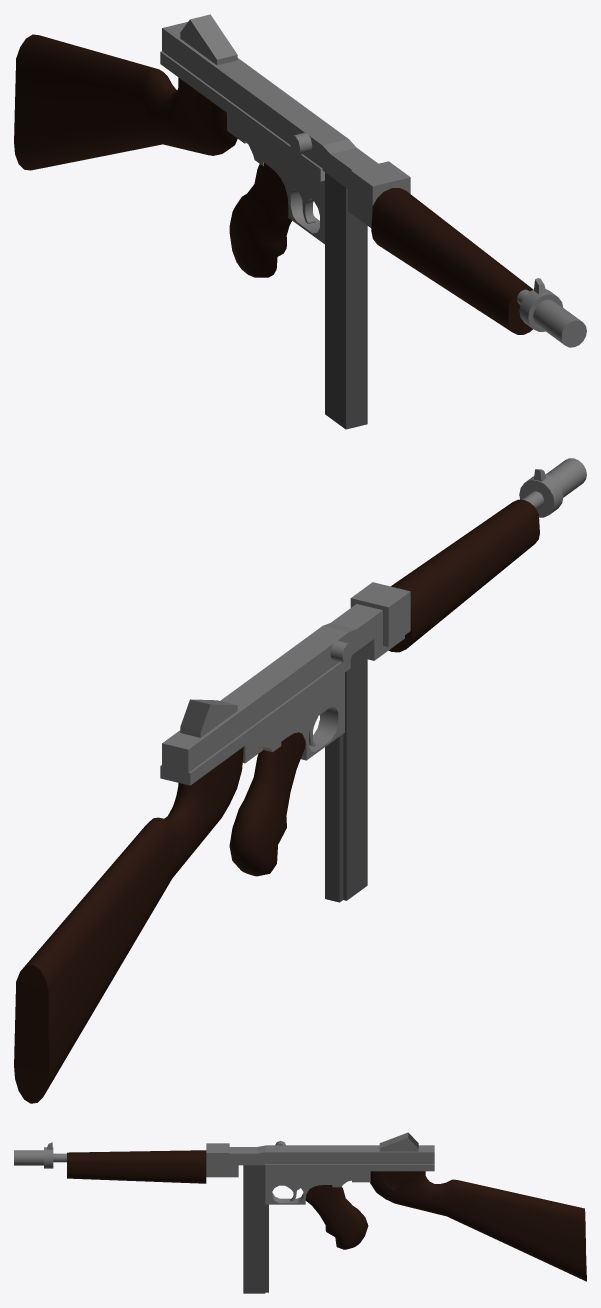
Rendered from Gun.glb.
The picture shows the model from 3 angles, top to bottom: view 1: azimuth 30°, elevation 25°; view 2: azimuth 150°, elevation 25°; view 3: azimuth 270°, elevation 25°; orthographic projection. The views are drawn at different scales.
Parts seen in each view (by area): view 1: Gun; view 2: Gun; view 3: Gun.
Part boxes in pixels (x1,y1,x2,y2): Gun: (14, 14, 586, 429); Gun: (14, 458, 586, 1103); Gun: (14, 1132, 586, 1293).
Size of the model in its own units: 0.0346 by 0.2076 by 0.692.
